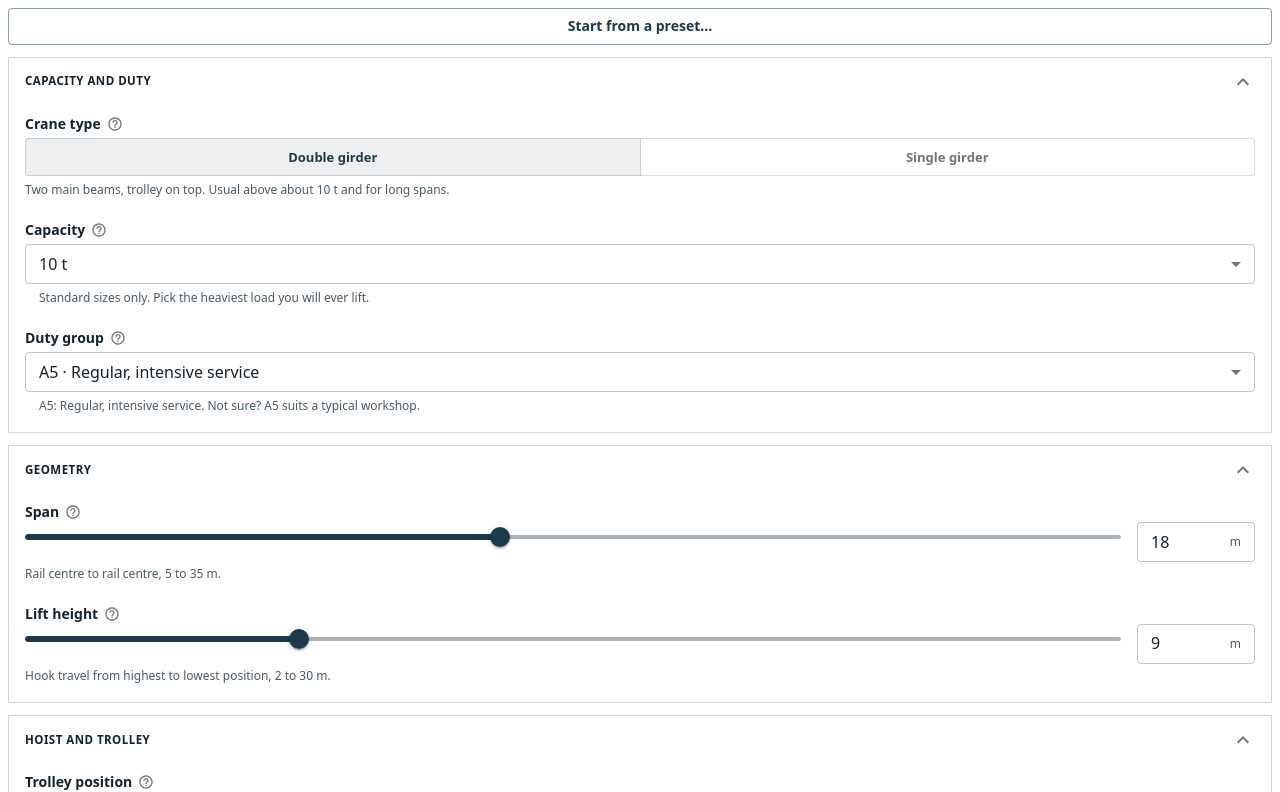
Test: InputsPanel validation display › shows the range error under the field, marks it invalid and says how to fix it
The image size is (1280, 792).
Replace the text in the field labelled "Span" with "99" at [1183, 542], box top-left (1137, 522), bottom-right (1230, 562)
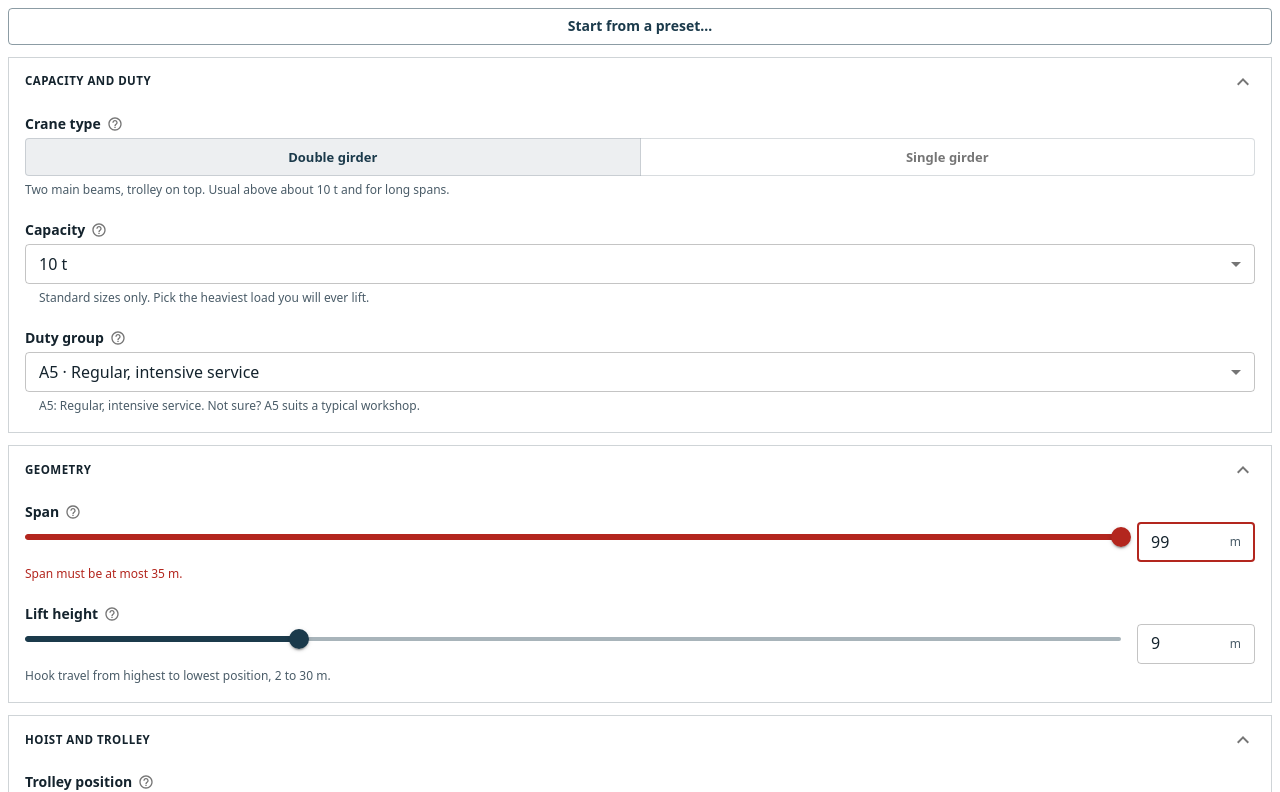
Check: the text "Span must be at most 35 m." is shown, box top-left (25, 565), bottom-right (182, 582)
